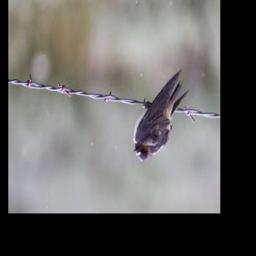Swallow: (132, 69, 191, 163)
